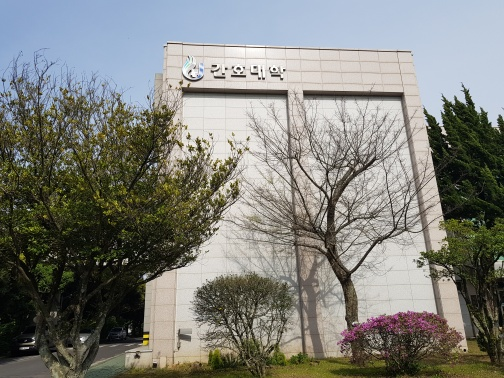College of Nursing: (140, 32, 483, 360), (177, 50, 290, 93)
